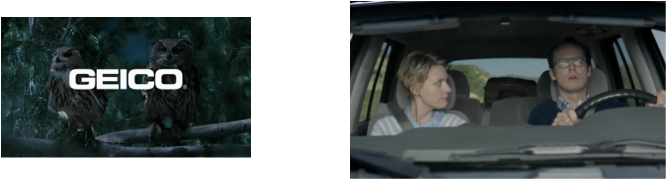Geico: (62, 60, 188, 97)
